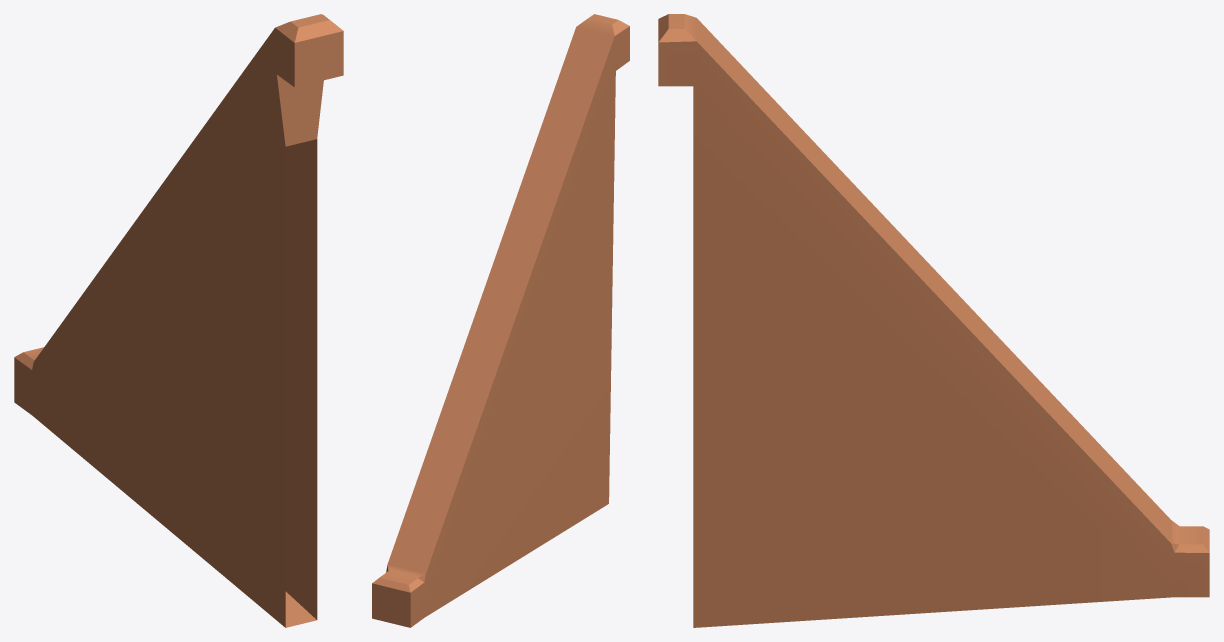
File: Bannister.fbx
The picture shows the model from 3 angles, left to right: view 1: azimuth 30°, elevation 25°; view 2: azimuth 150°, elevation 25°; view 3: azimuth 270°, elevation 25°; orthographic projection. The views are drawn at different scales.
Parts seen in each view (by area): view 1: polySurface5; view 2: polySurface5; view 3: polySurface5.
Boxes of the visible parts, bbox=[...] form: polySurface5: bbox=[14, 14, 343, 627]; polySurface5: bbox=[372, 14, 629, 627]; polySurface5: bbox=[658, 14, 1209, 627].
Size of the model in its own units: 0.4778 by 5.66 by 4.72.
1 material, 1 textured.
